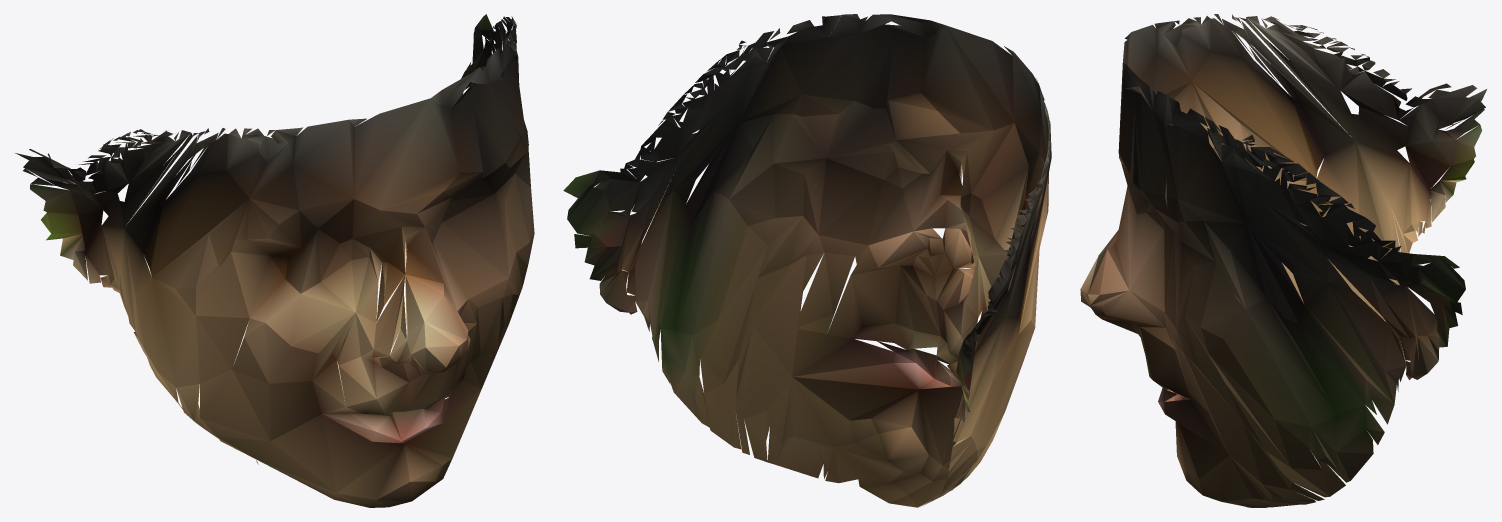
Rendered from jfwek.obj.
3 renders of one model, left to right at view 1: azimuth 30°, elevation 25°; view 2: azimuth 150°, elevation 25°; view 3: azimuth 270°, elevation 25°, orthographic. The views are drawn at different scales.
Size of the model in its own units: 478 by 454 by 385.
